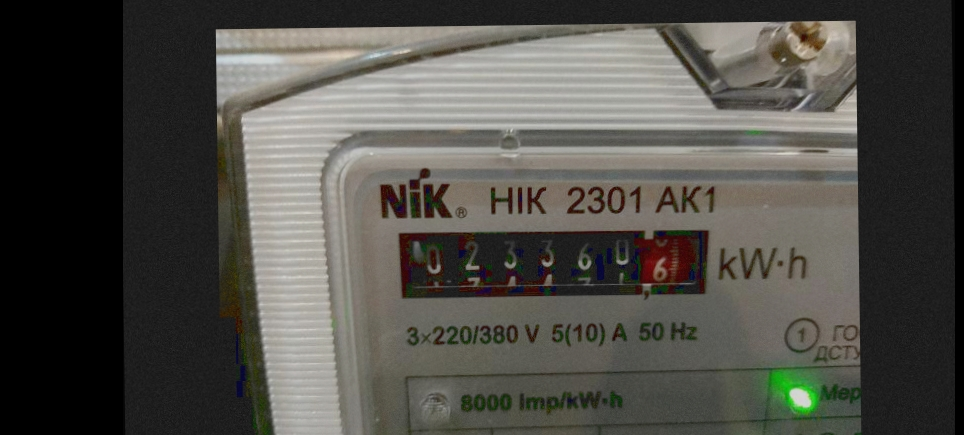0: (423, 241, 444, 274), (614, 234, 631, 266)
2: (461, 237, 484, 272)
3: (499, 237, 520, 269), (538, 235, 557, 267)
6: (574, 238, 594, 270), (649, 252, 670, 281)
screen: (380, 210, 724, 313)
